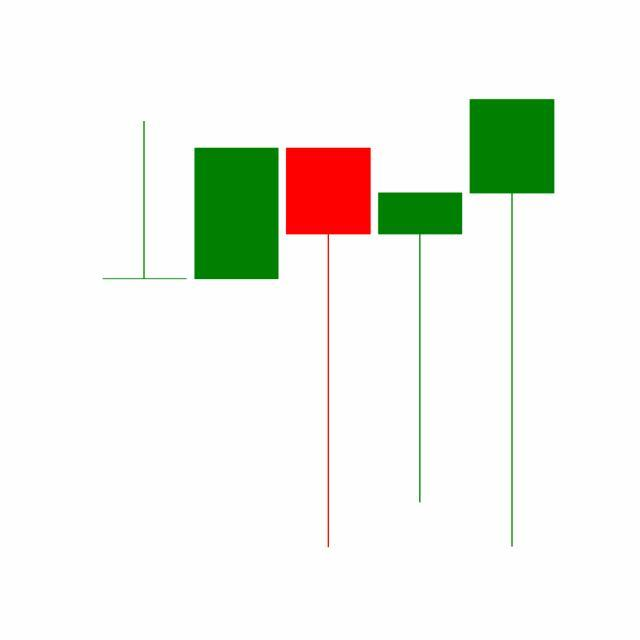Hanging Man: (466, 94, 559, 552)
